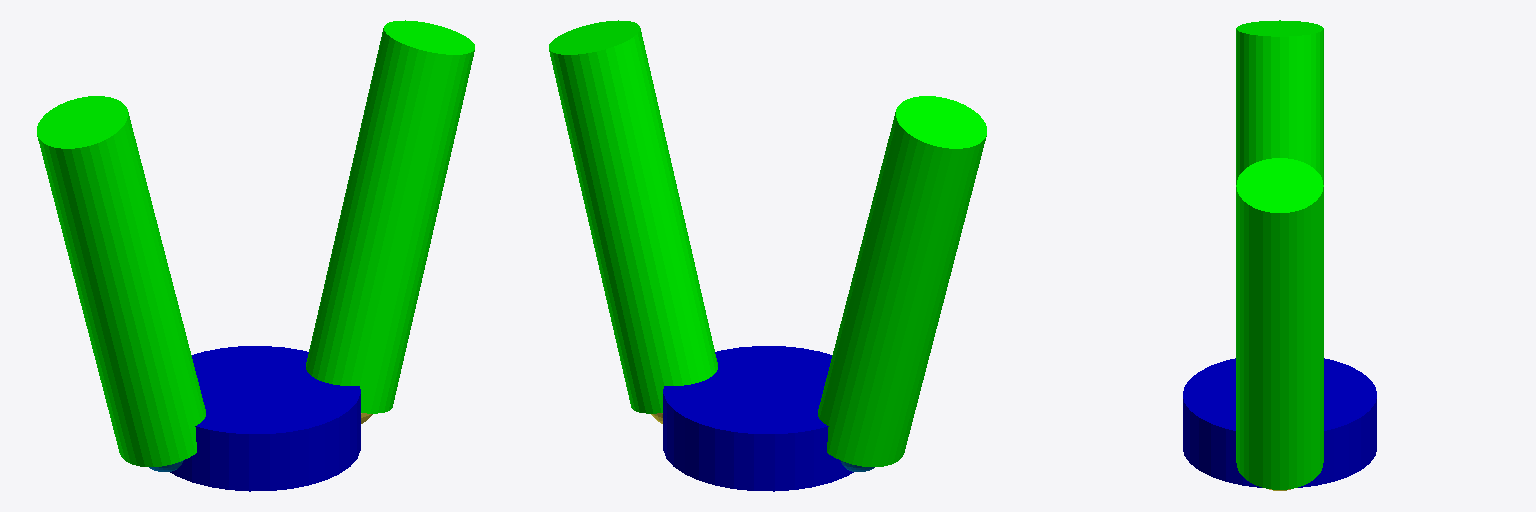
robot.urdf — gripper_2f_1j:
<?xml version='1.0' encoding='UTF-8'?>
<robot name="gripper_2f_1j">
  <link name="palm">
    <inertial>
      <origin xyz="0.0 0.0 0.0" rpy="0.0 -0.0 0.0"/>
      <mass value="1.0"/>
      <inertia ixx="1.0" ixy="0.0" ixz="0.0" iyy="1.0" iyz="0.0" izz="1.0"/>
    </inertial>
    <visual>
      <geometry>
        <cylinder radius="0.05" length="0.03"/>
      </geometry>
      <material name="blue"/>
      <origin xyz="0.0 0.0 0.0" rpy="0.0 -0.0 0.0"/>
    </visual>
    <collision>
      <geometry>
        <cylinder radius="0.05" length="0.03"/>
      </geometry>
      <origin xyz="0.0 0.0 0.0" rpy="0.0 0.0 0.0"/>
    </collision>
  </link>
  <link name="f11">
    <inertial>
      <origin xyz="0.0 0.0 0.0" rpy="0.0 -0.0 0.0"/>
      <mass value="1.0"/>
      <inertia ixx="1.0" ixy="0.0" ixz="0.0" iyy="1.0" iyz="0.0" izz="1.0"/>
    </inertial>
    <visual>
      <geometry>
        <cylinder radius="0.022420454037247503" length="0.18357832559894022"/>
      </geometry>
      <material name="green"/>
      <origin xyz="0.0 0.0 0.09178916279947011" rpy="0.0 -0.0 0.0"/>
    </visual>
    <collision>
      <geometry>
        <cylinder radius="0.022420454037247503" length="0.18357832559894022"/>
      </geometry>
      <origin xyz="0.0 0.0 0.05" rpy="0.0 0.0 0.0"/>
    </collision>
  </link>
  <link name="f21">
    <inertial>
      <origin xyz="0.0 0.0 0.0" rpy="0.0 -0.0 0.0"/>
      <mass value="1.0"/>
      <inertia ixx="1.0" ixy="0.0" ixz="0.0" iyy="1.0" iyz="0.0" izz="1.0"/>
    </inertial>
    <visual>
      <geometry>
        <cylinder radius="0.022420454037247503" length="0.18357832559894022"/>
      </geometry>
      <material name="green"/>
      <origin xyz="0.0 0.0 0.09178916279947011" rpy="0.0 -0.0 0.0"/>
    </visual>
    <collision>
      <geometry>
        <cylinder radius="0.022420454037247503" length="0.18357832559894022"/>
      </geometry>
      <origin xyz="0.0 0.0 0.05" rpy="0.0 0.0 0.0"/>
    </collision>
  </link>
  <link name="f11_base">
    <inertial>
      <origin xyz="0.0 0.0 0.0" rpy="0.0 -0.0 0.0"/>
      <mass value="1.0"/>
      <inertia ixx="1.0" ixy="0.0" ixz="0.0" iyy="1.0" iyz="0.0" izz="1.0"/>
    </inertial>
    <visual>
      <geometry>
        <sphere radius="0.015"/>
      </geometry>
      <origin xyz="0.0 0.0 0.0" rpy="0.0 -0.0 0.0"/>
    </visual>
  </link>
  <link name="f21_base">
    <inertial>
      <origin xyz="0.0 0.0 0.0" rpy="0.0 -0.0 0.0"/>
      <mass value="1.0"/>
      <inertia ixx="1.0" ixy="0.0" ixz="0.0" iyy="1.0" iyz="0.0" izz="1.0"/>
    </inertial>
    <visual>
      <geometry>
        <sphere radius="0.015"/>
      </geometry>
      <origin xyz="0.0 0.0 0.0" rpy="0.0 -0.0 0.0"/>
    </visual>
  </link>
  <joint name="f11_joint" type="revolute">
    <dynamics damping="100.0" friction="1.0"/>
    <limit effort="30.0" velocity="2.0" lower="-0.6" upper="0.25"/>
    <parent link="f11_base"/>
    <child link="f11"/>
    <axis xyz="0. 1. 0."/>
    <origin xyz="0.0 0.0 0.0" rpy="0.0 0.25 0.0"/>
  </joint>
  <joint name="f21_joint" type="revolute">
    <dynamics damping="100.0" friction="1.0"/>
    <limit effort="30.0" velocity="2.0" lower="-0.6" upper="0.25"/>
    <parent link="f21_base"/>
    <child link="f21"/>
    <axis xyz=" 0. -1.  0."/>
    <origin xyz="0.0 0.0 0.0" rpy="0.0 -0.25 0.0"/>
  </joint>
  <joint name="f11_base_joint" type="fixed">
    <parent link="palm"/>
    <child link="f11_base"/>
    <axis xyz="1. 0. 0."/>
    <origin xyz="0.05 0.0 0.0" rpy="0.0 0.0 0.0"/>
  </joint>
  <joint name="f21_base_joint" type="fixed">
    <parent link="palm"/>
    <child link="f21_base"/>
    <axis xyz="1. 0. 0."/>
    <origin xyz="-0.05 -0.0 0.0" rpy="0.0 0.0 0.0"/>
  </joint>
  <material name="blue">
    <color rgba="0.  0.  0.8 1. "/>
  </material>
  <material name="green">
    <color rgba="0. 1. 0. 1."/>
  </material>
</robot>

--- Render facts (derived) ---
Views: 3 orthographic renders of the robot side by side, from view 1: azimuth 30°, elevation 25°; view 2: azimuth 150°, elevation 25°; view 3: azimuth 270°, elevation 25°.
Robot: gripper_2f_1j — 5 links, 4 joints (2 revolute, 2 fixed); root link palm; default pose: all joints at 0.
Visible links, largest first — view 1: f11, f21, palm; view 2: f11, f21, palm; view 3: f11, f21, palm.
Boxes of the visible links, <box> form: f11: <box>306,20,474,413</box>; f21: <box>37,96,205,466</box>; palm: <box>170,346,360,491</box>; f11: <box>549,20,717,413</box>; f21: <box>818,96,986,466</box>; palm: <box>663,346,853,491</box>; f11: <box>1236,158,1323,489</box>; f21: <box>1236,20,1323,184</box>; palm: <box>1183,358,1376,487</box>.
Size in the robot's own frame: 0.2343 by 0.1 by 0.1984 metres.
Geometry: primitives only (box / cylinder / sphere), no mesh files.